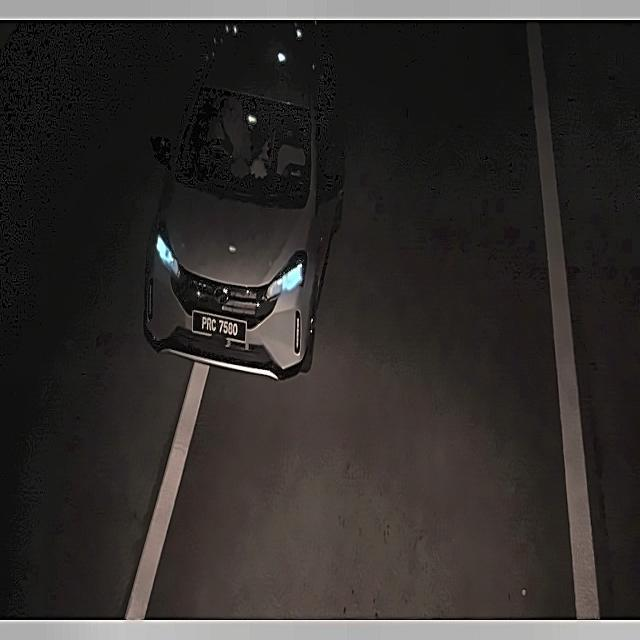car: (186, 302, 258, 351)
